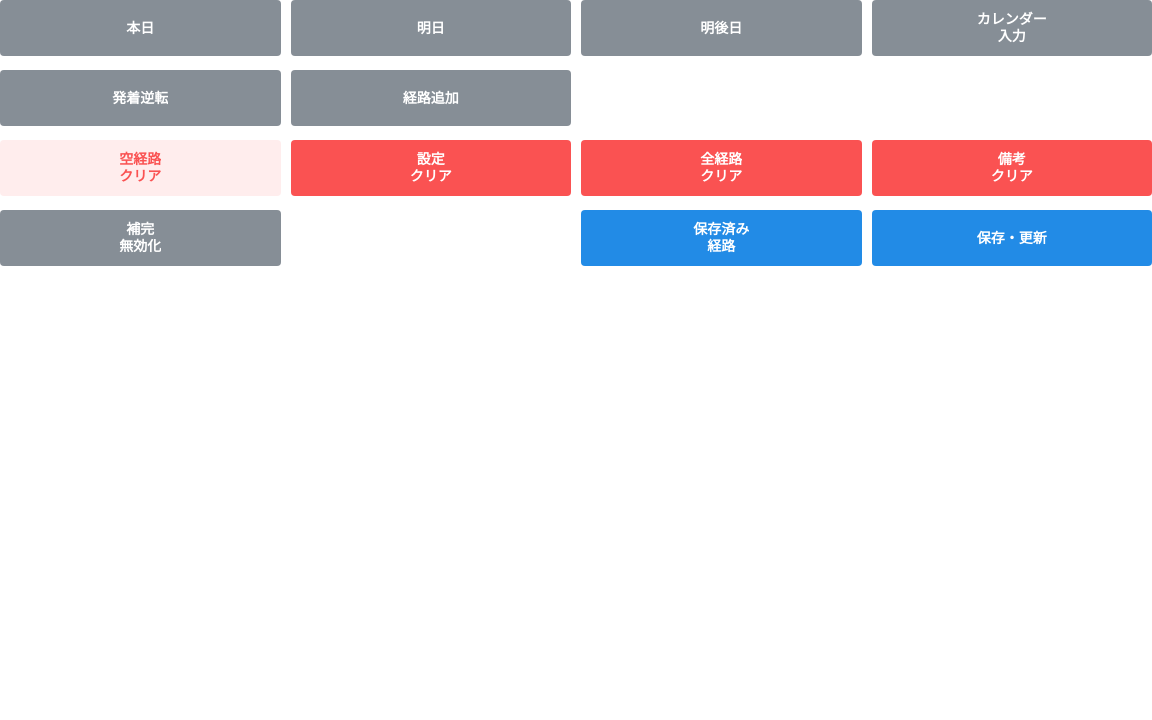
ControlButtons › 保存済み経路を選んで更新すると、その経路の設定だけを変更する
Click the button "保存・更新".
click(1012, 238)  # box [872,210,1151,266]
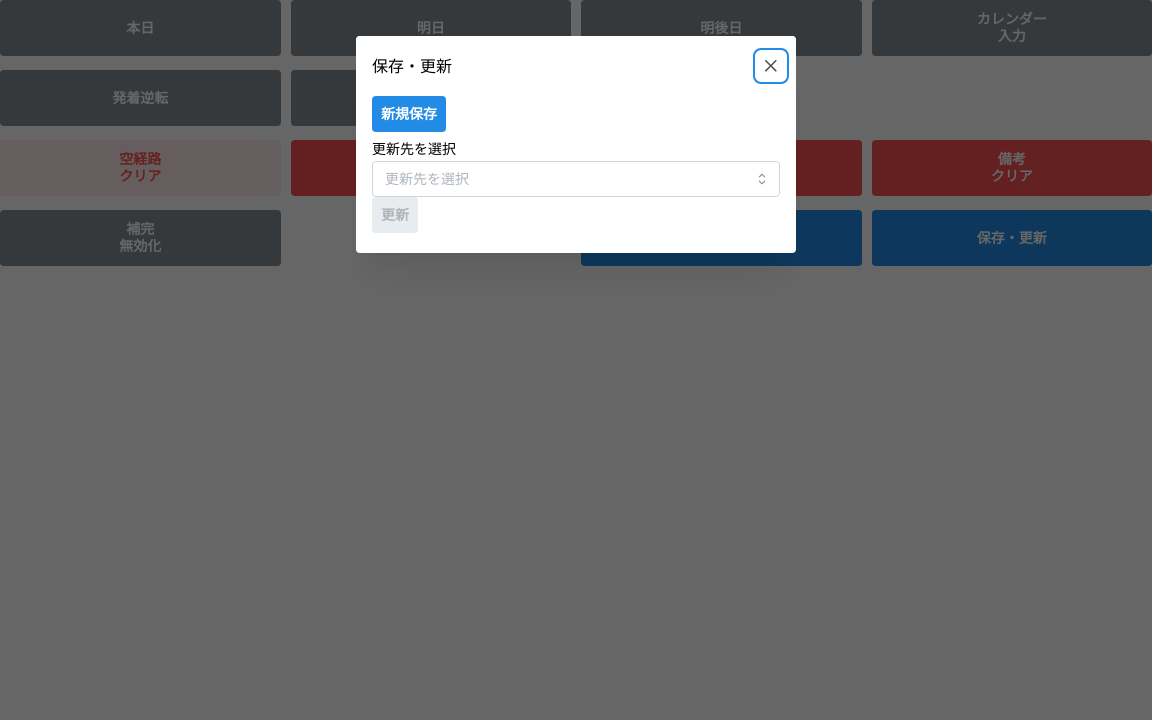
Check: the button "更新" is disabled, box [372,197,418,233]
Click the dropdown labelled "更新先を選択".
click(576, 179)  # box [372,161,780,197]
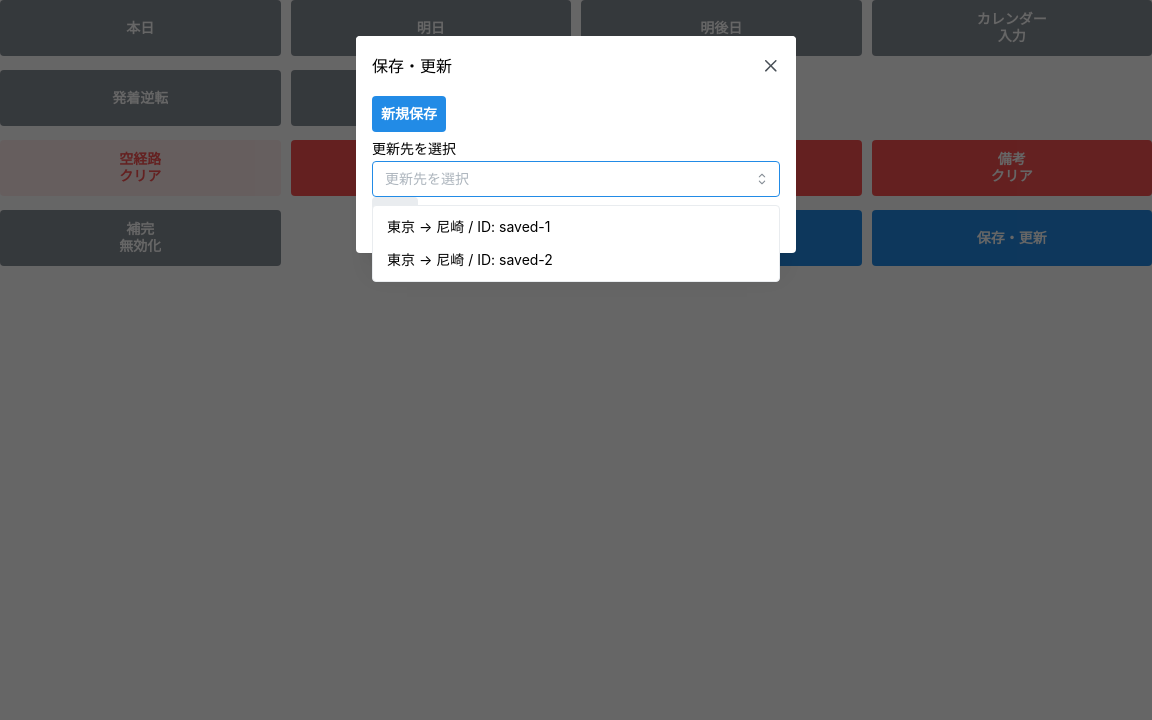
Click the option "東京 → 尼崎 / ID: saved-1".
click(469, 226)  # box [387,218,550,235]
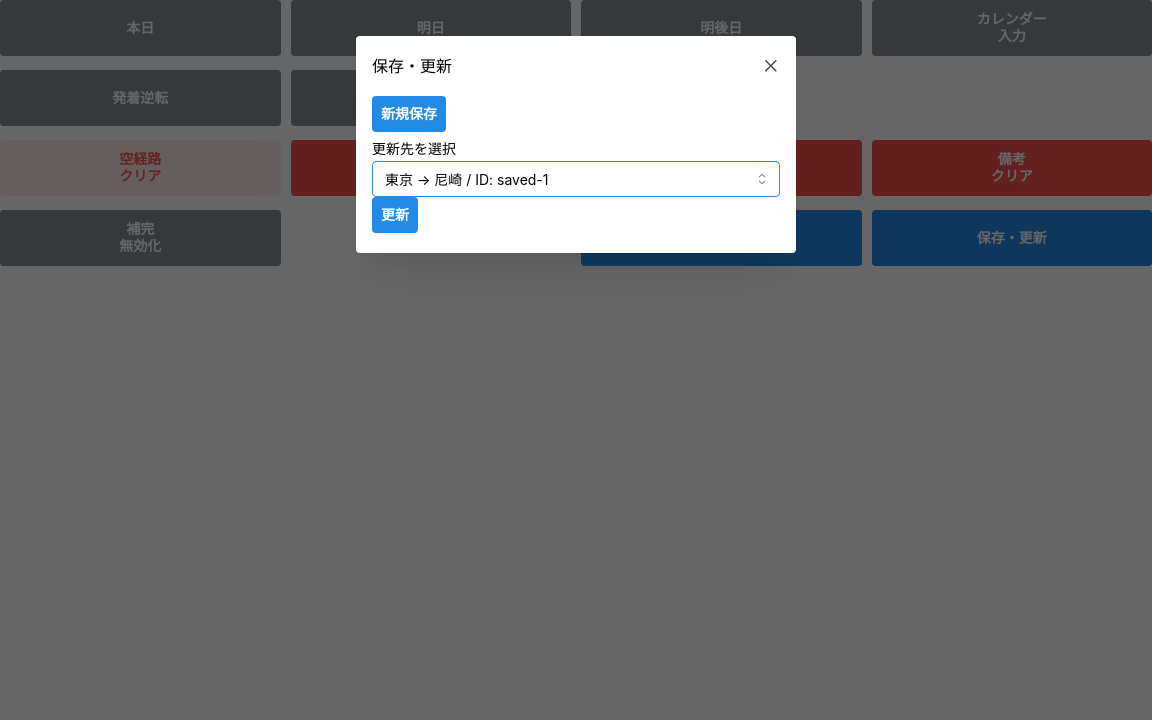
Click the button "更新".
click(395, 215)  # box [372,197,418,233]
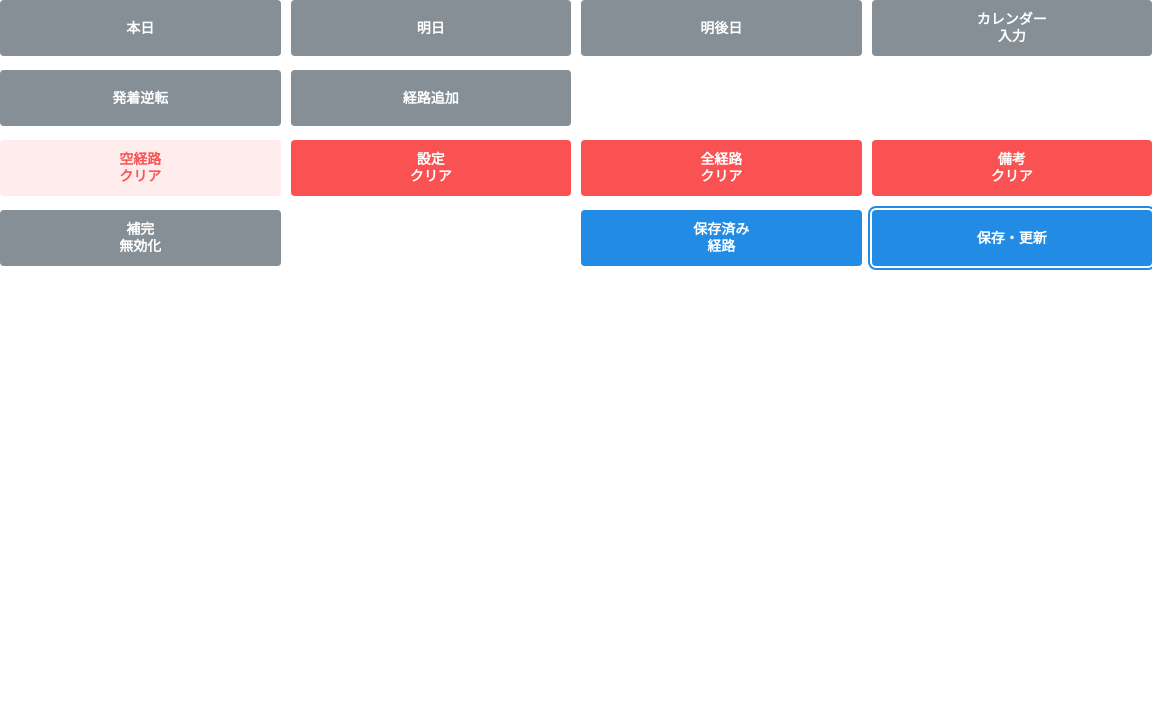
Check: the dialog is gone
